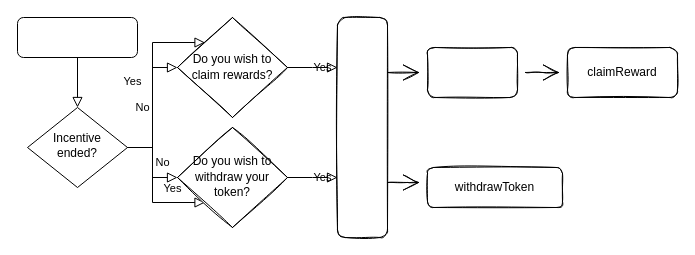
The diagram is 695 pixels wide and 255 high, and some of its shapes have lost their labels. The centre of each missing label's shape, as x and y in pixels:
getRewardInfo: point (472, 72)
Stake: point (77, 37)
Unstake: point (362, 127)
